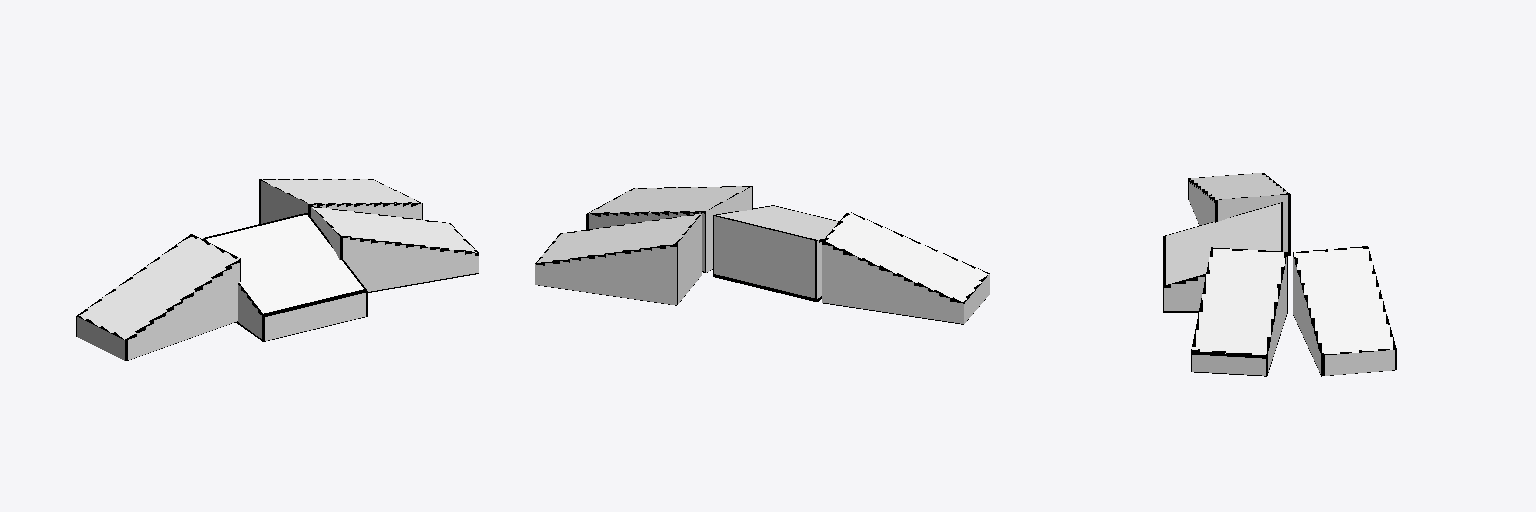
3 views of the same model, side by side, from view 1: azimuth 30°, elevation 25°; view 2: azimuth 150°, elevation 25°; view 3: azimuth 270°, elevation 25° (orthographic).
Visible parts, largest first — view 1: cylinder8_sep51, cylinder8_sep49, cylinder8_sep47, cylinder8_sep48; view 2: cylinder8_sep49, cylinder8_sep48, cylinder8_sep51, cylinder8_sep47; view 3: cylinder8_sep48, cylinder8_sep47, cylinder8_sep51, cylinder8_sep49.
Part boxes in pixels (x1,y1,x2,y2): cylinder8_sep51: (203,213,367,341); cylinder8_sep49: (76,234,240,360); cylinder8_sep47: (311,206,478,292); cylinder8_sep48: (259,179,422,223); cylinder8_sep49: (822,211,989,324); cylinder8_sep48: (535,213,701,305); cylinder8_sep51: (713,205,838,301); cylinder8_sep47: (586,186,752,272); cylinder8_sep48: (1293,246,1396,376); cylinder8_sep47: (1191,247,1287,376); cylinder8_sep51: (1163,202,1282,312); cylinder8_sep49: (1188,173,1290,255).
Size of the model in its own units: 7.22 by 1.2 by 3.89.
Materials: 1 (1 with a texture image).